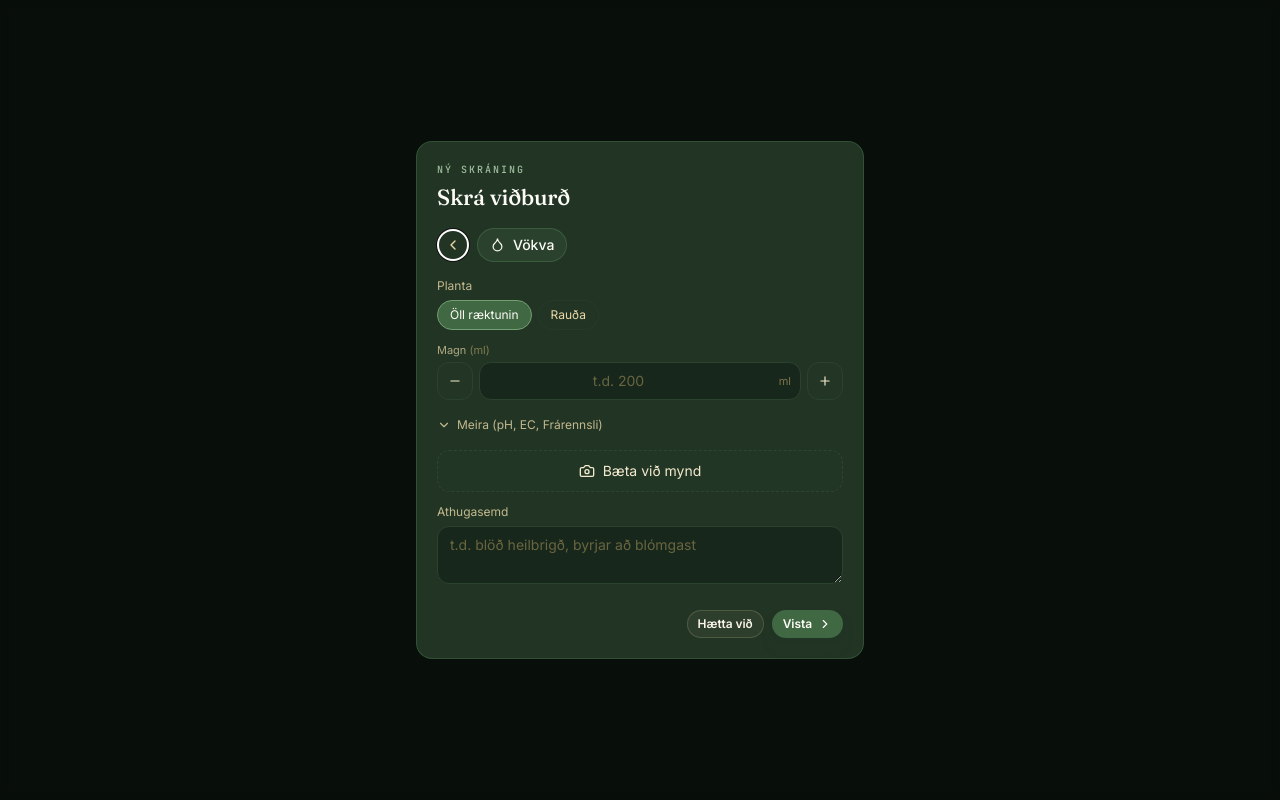
Scenario: LogComposer — skref 2: form eftir tegund › environment: Hiti, Raki og Ljóstími
Click the button named "Velja aðra tegund". click: (453, 245)
box: [437,229,469,261]
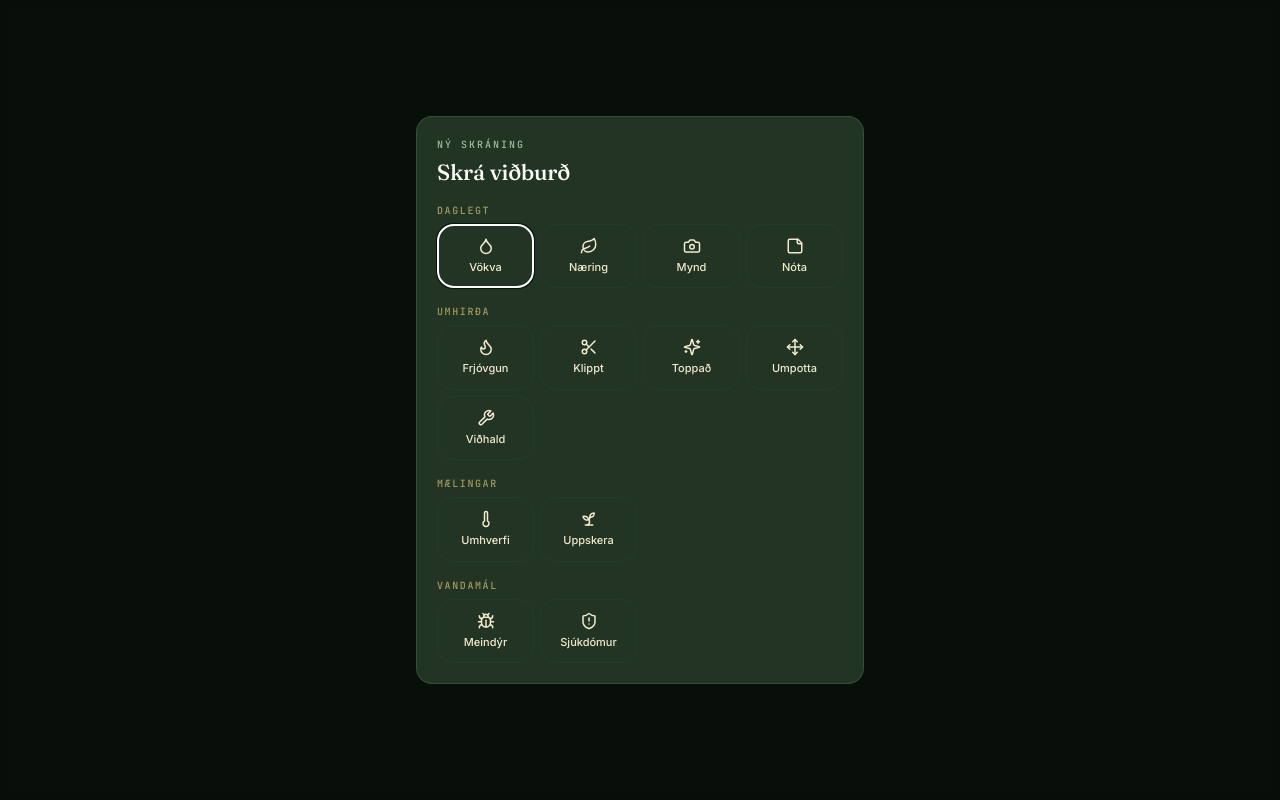
Click the button "Umhverfi". click: (486, 530)
box: [437,497,534,562]
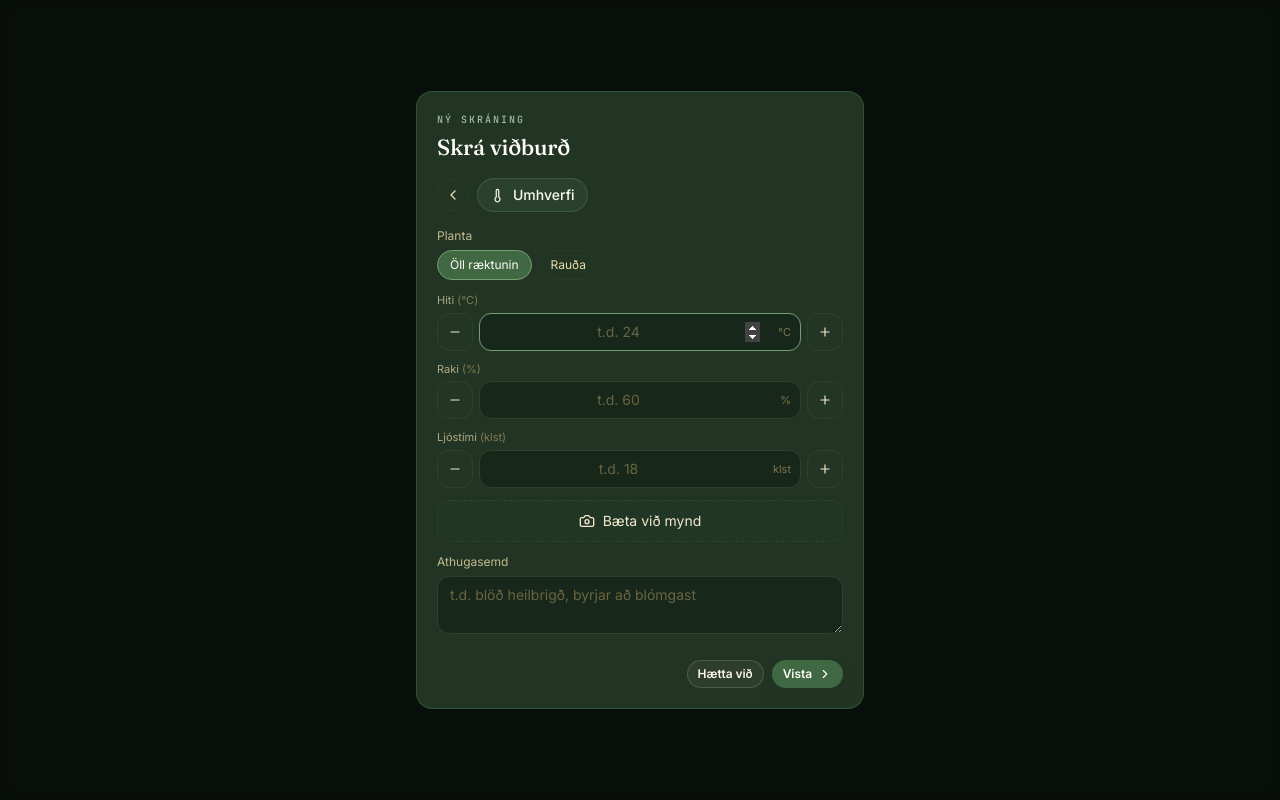
Expected: the number field with placeholder "t.d. 24" is shown, [479,313,801,351]
Expected: the number field with placeholder "t.d. 60" is shown, [479,381,801,419]
Expected: the number field with placeholder "t.d. 18" is shown, [479,450,801,488]
